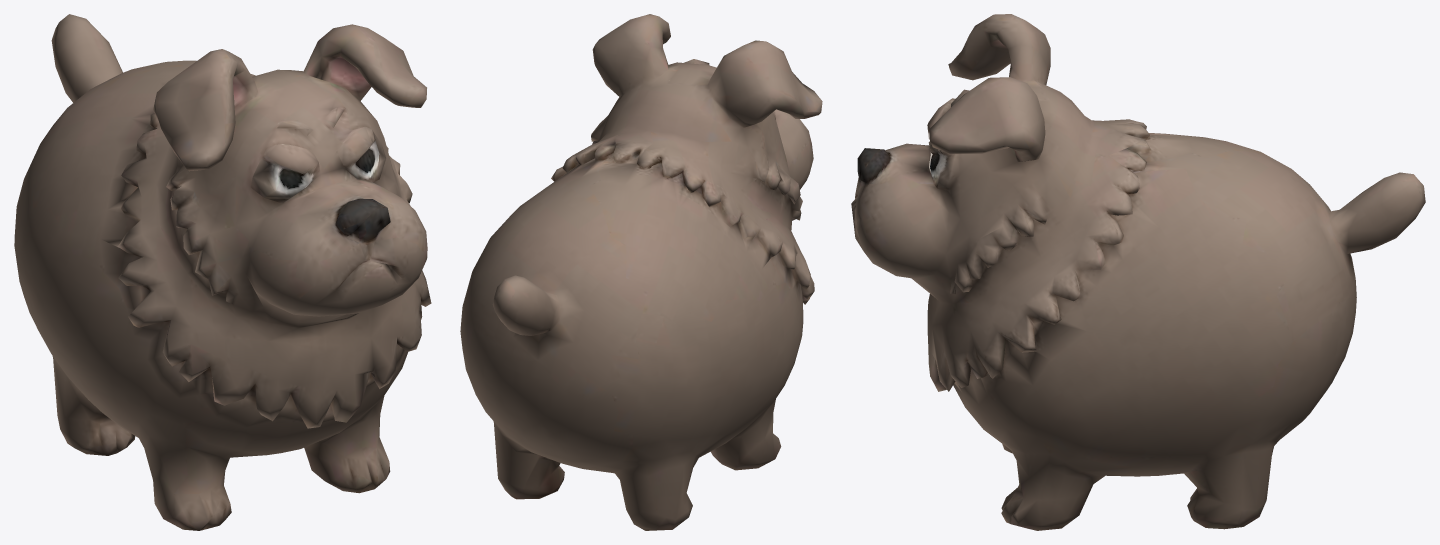
The model's file is dog.glb.
The picture shows the model from 3 angles, left to right: view 1: azimuth 30°, elevation 25°; view 2: azimuth 150°, elevation 25°; view 3: azimuth 270°, elevation 25°; orthographic projection. The views are drawn at different scales.
Parts seen in each view (by area): view 1: prop; view 2: prop; view 3: prop.
Boxes of the visible parts, x1,y1,x2,y2 form: prop: (14, 14, 431, 530); prop: (460, 14, 822, 530); prop: (851, 14, 1425, 530).
Bounding box in the file's own units: 0.5691 × 0.8263 × 0.9803.
Materials: 1 (1 with a texture image).
